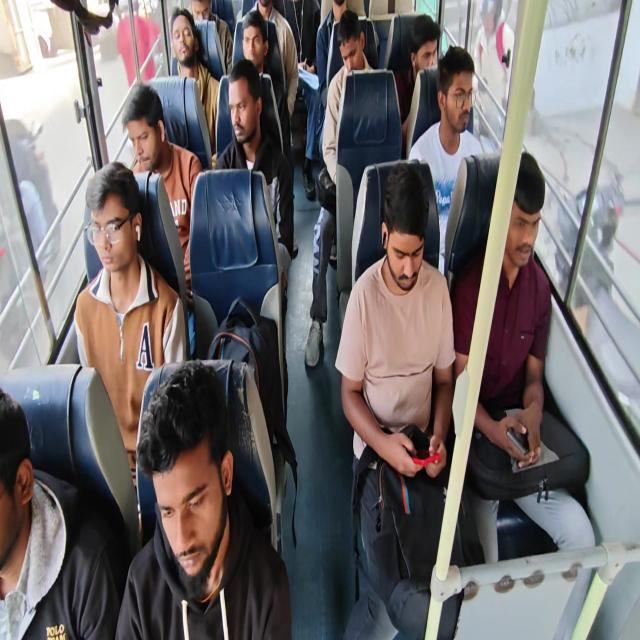person: (120, 370, 248, 630), (88, 193, 156, 345), (0, 397, 42, 640), (499, 176, 568, 301), (390, 174, 433, 292), (439, 54, 486, 150), (122, 91, 174, 166), (162, 17, 212, 83), (225, 74, 260, 166), (410, 30, 445, 84), (346, 26, 372, 86), (292, 0, 315, 67), (239, 22, 267, 70), (184, 2, 220, 31), (252, 0, 287, 29), (327, 0, 351, 17)
